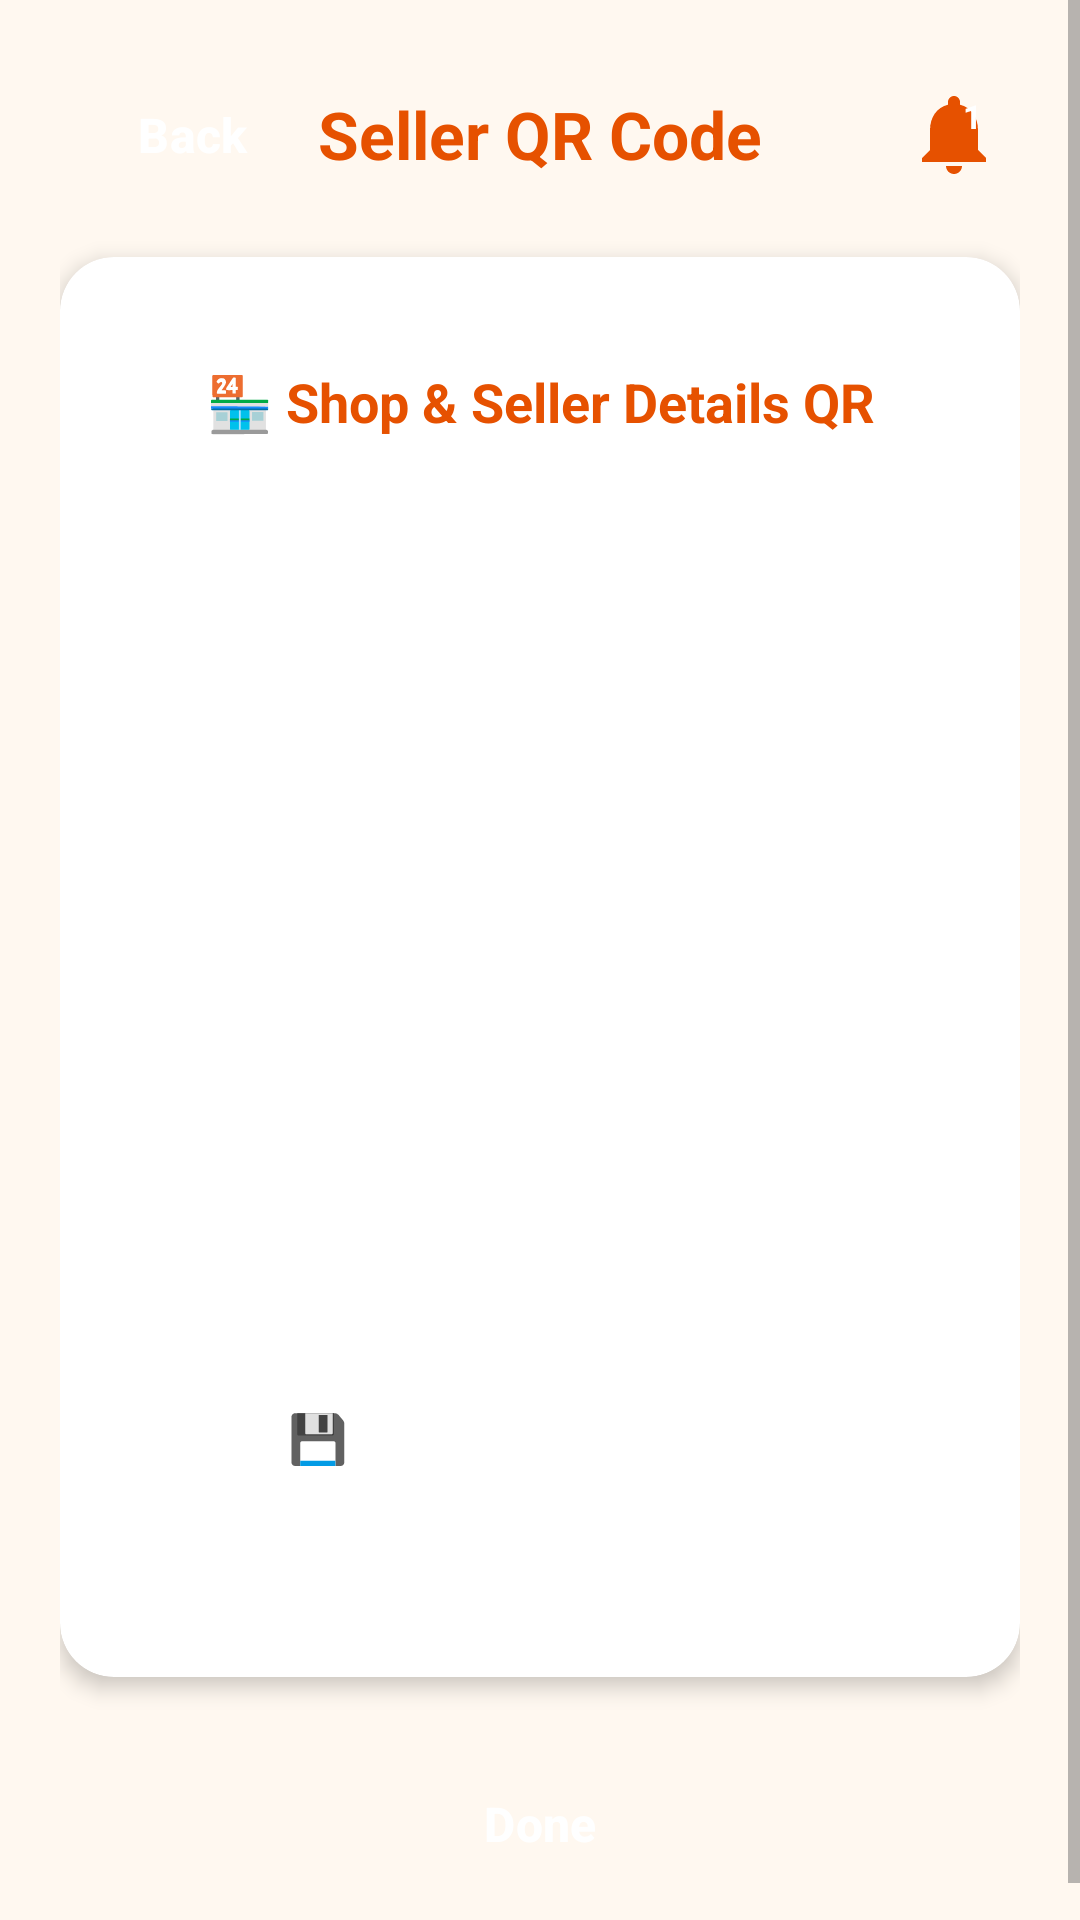

Where icons sit on this 1080w x 1920h app screen, as (x1, y1, x2, y2):
Notification Icon: (922, 96, 986, 174)
